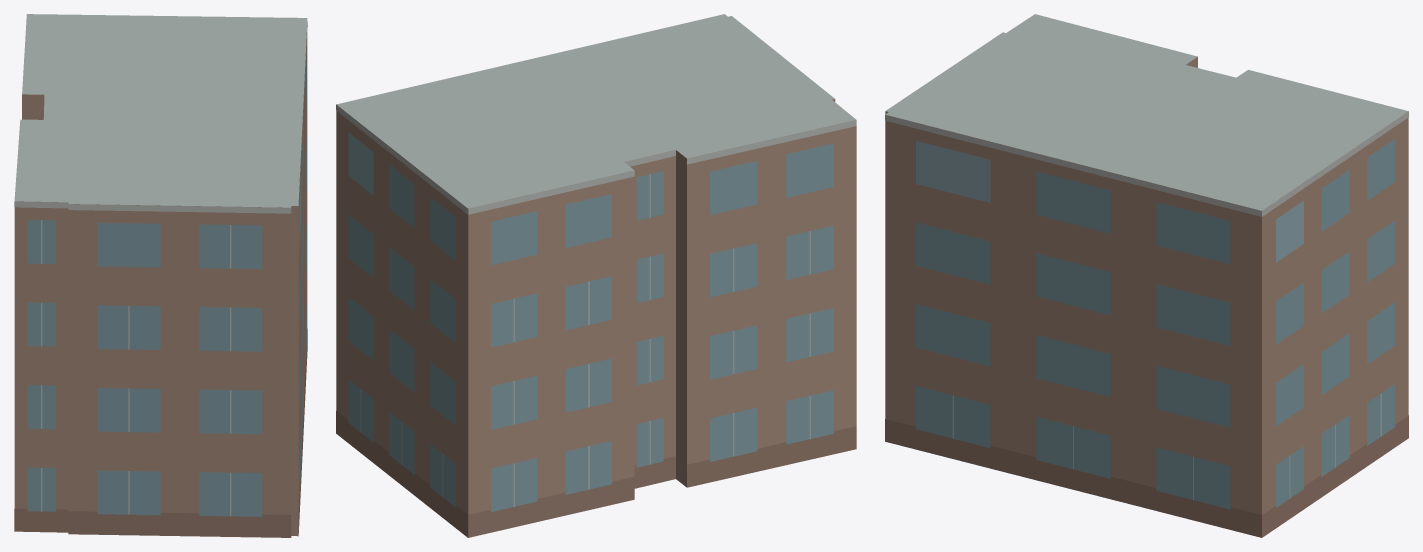
The model's file is survey-upis-33046930.glb.
3 views of the same model, side by side, from view 1: azimuth 30°, elevation 25°; view 2: azimuth 150°, elevation 25°; view 3: azimuth 270°, elevation 25° (orthographic).
Visible parts, largest first — view 1: survey-upis-33046930.tmp; view 2: survey-upis-33046930.tmp; view 3: survey-upis-33046930.tmp.
Boxes of the visible parts, <box> form: survey-upis-33046930.tmp: <box>14,14,307,537</box>; survey-upis-33046930.tmp: <box>336,14,856,537</box>; survey-upis-33046930.tmp: <box>885,14,1408,537</box>.
Bounding box in the file's own units: 16.99 × 13.15 × 19.1.
